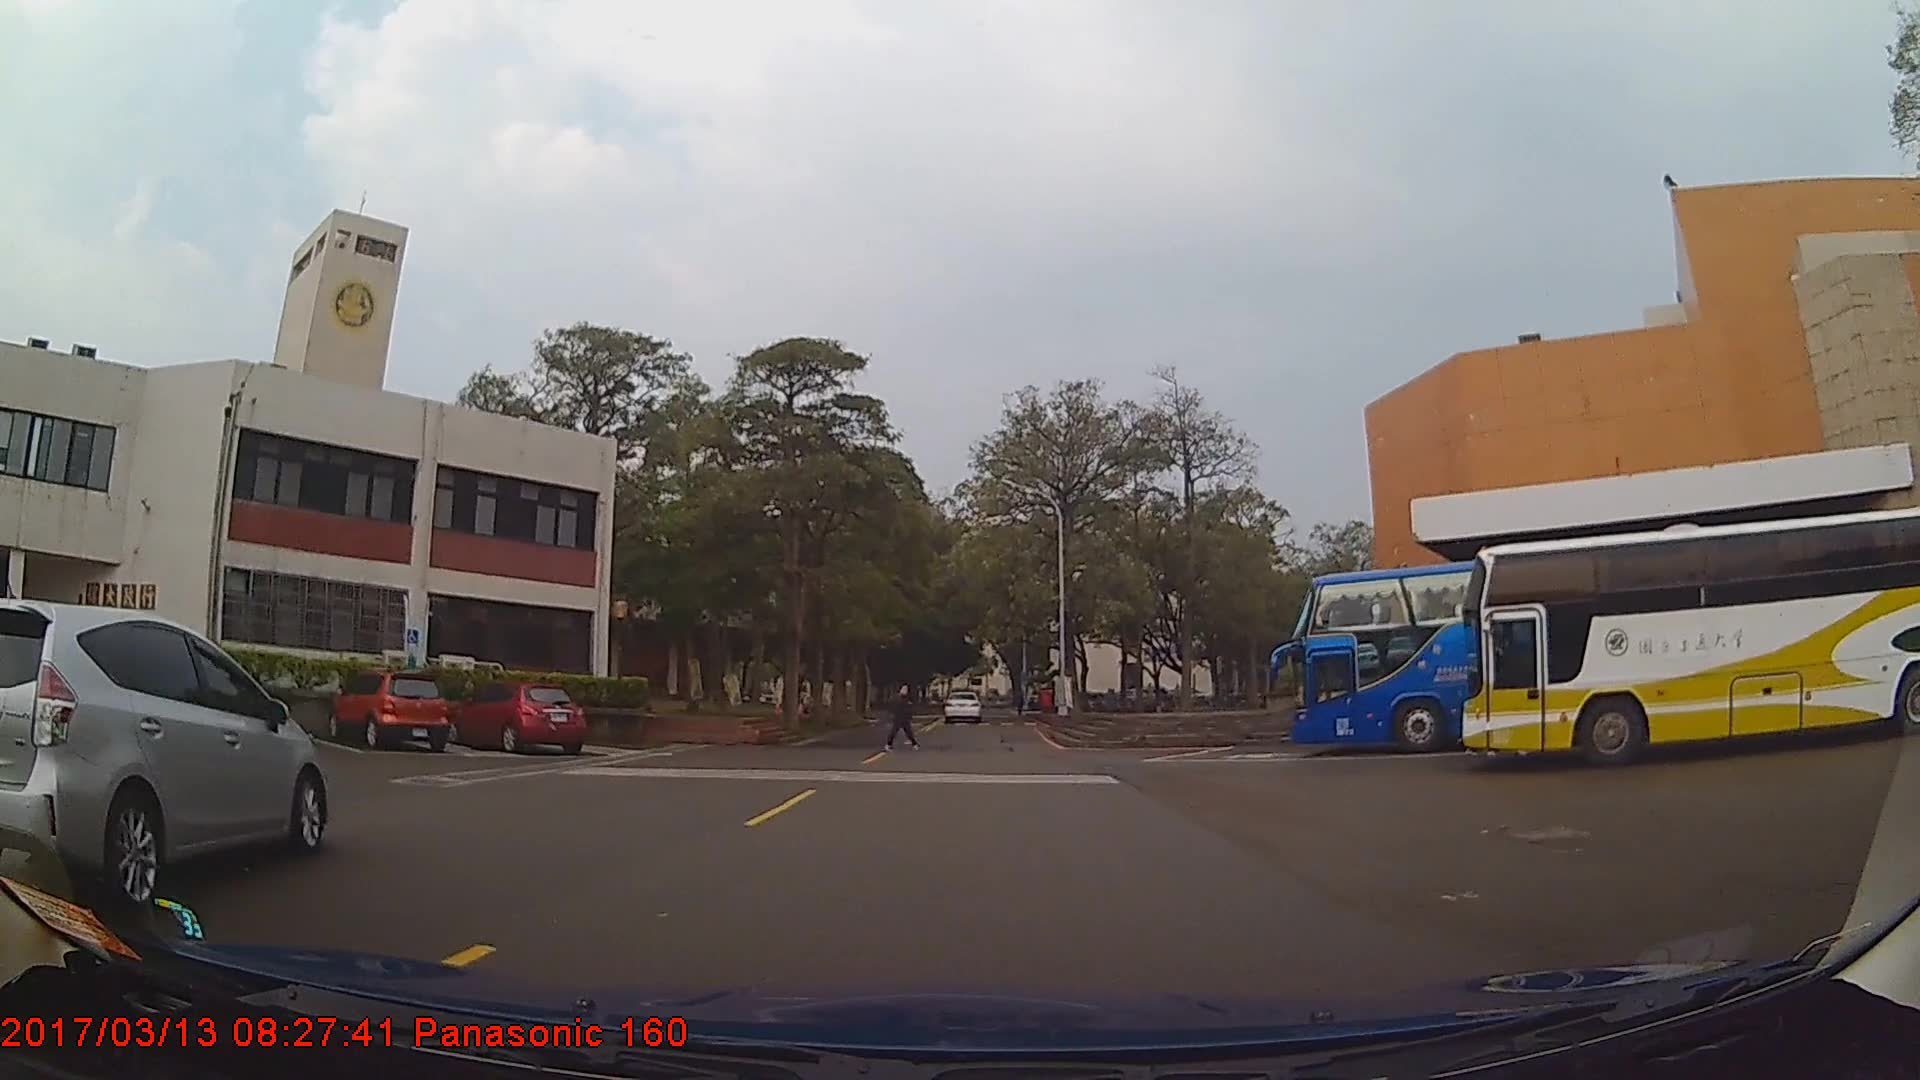pedestrian: (891, 680, 917, 750)
vehicle: (1293, 547, 1920, 756), (1464, 504, 1920, 767), (0, 598, 328, 910), (447, 677, 589, 752), (328, 668, 449, 749), (944, 686, 981, 720)
